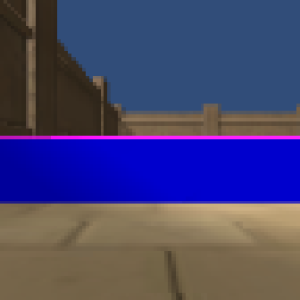platform: (1, 141, 299, 206)
ramp: (1, 132, 299, 141)
